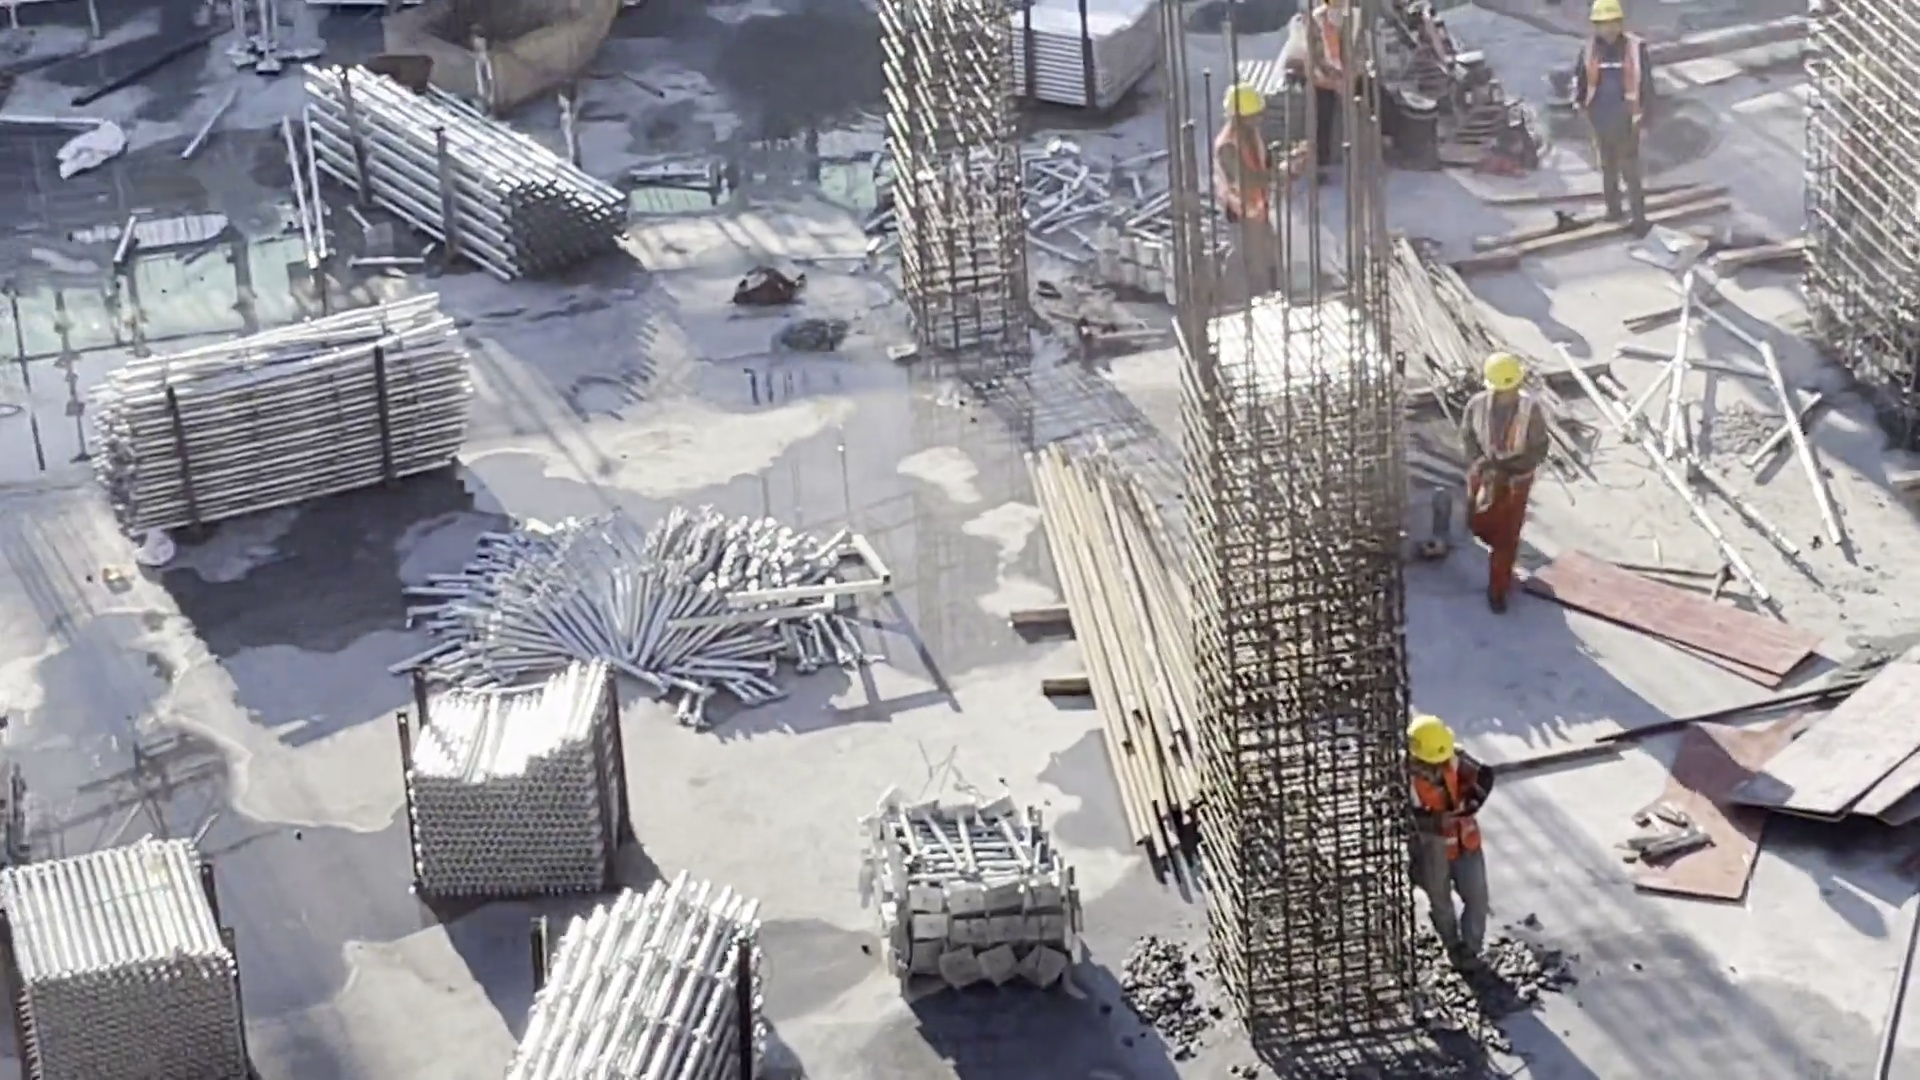board: (1761, 653, 1920, 855)
helmet: (1485, 350, 1540, 390), (1408, 716, 1455, 765), (1222, 87, 1277, 119), (1586, 1, 1629, 19)
hopper: (377, 1, 621, 116)
person: (1395, 709, 1496, 963), (1572, 1, 1659, 238), (1474, 349, 1540, 619), (1212, 87, 1293, 293), (1300, 6, 1360, 190)
scaffold: (286, 54, 624, 279), (424, 508, 832, 690), (100, 305, 456, 503), (19, 819, 238, 1080), (514, 870, 776, 1080), (401, 674, 637, 879), (868, 790, 1087, 1004), (1030, 159, 1195, 311), (1018, 1, 1178, 112)
vest: (1401, 748, 1484, 859), (1466, 381, 1542, 494), (1576, 36, 1661, 117), (1217, 126, 1275, 224), (1315, 15, 1353, 97)
